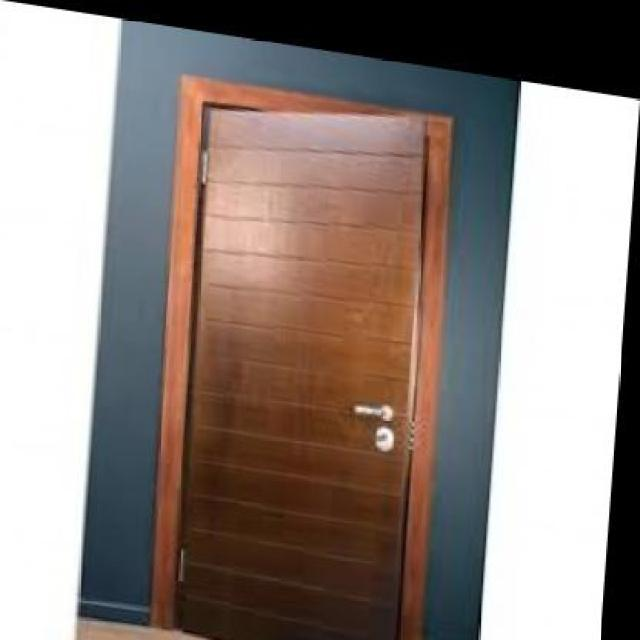door: (167, 95, 425, 640)
